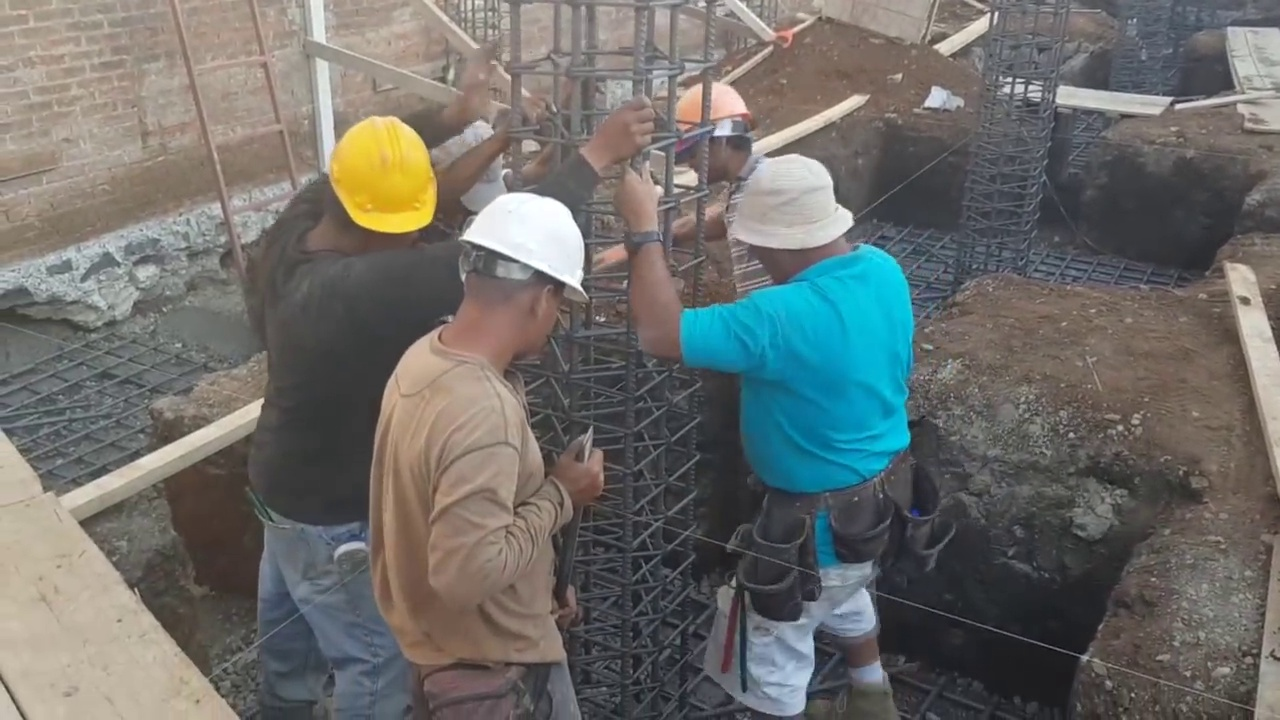helmet: (455, 188, 581, 303), (326, 120, 435, 238), (672, 71, 751, 144)
helmet-off: (731, 154, 858, 292)
helmet-on: (429, 186, 580, 371), (294, 118, 436, 257), (669, 71, 752, 185)
person: (243, 39, 546, 719), (578, 148, 927, 720), (361, 197, 601, 716), (669, 64, 790, 293)
